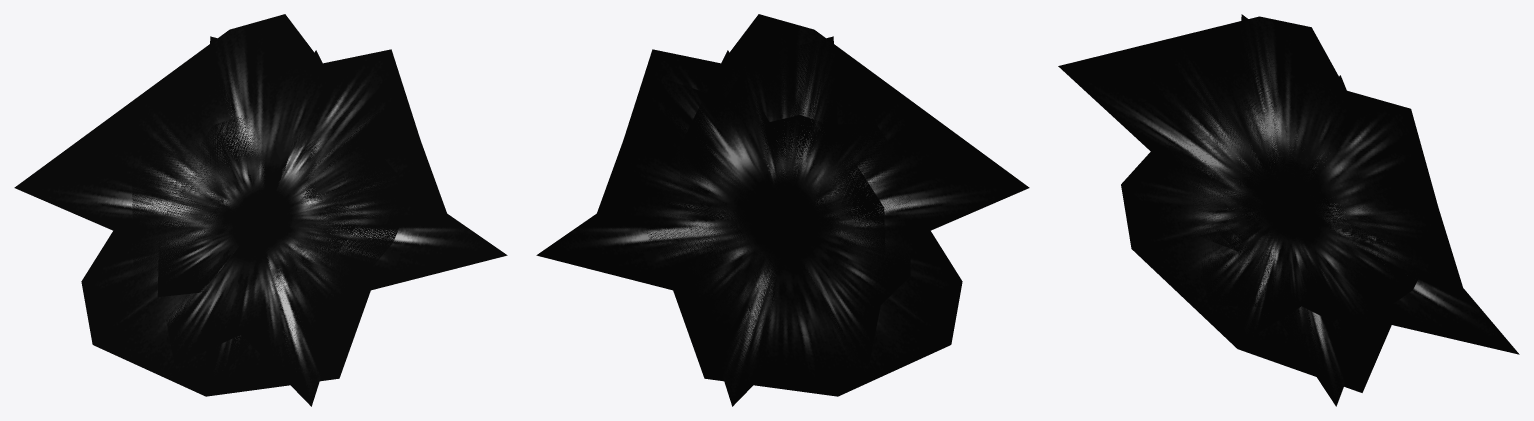
The model's file is Hit_Physical_Strike01.fbx.
3 views of the same model, side by side, from view 1: azimuth 30°, elevation 25°; view 2: azimuth 150°, elevation 25°; view 3: azimuth 330°, elevation 25° (orthographic). The views are drawn at different scales.
Visible parts, largest first — view 1: Hit_Physical_Strike01; view 2: Hit_Physical_Strike01; view 3: Hit_Physical_Strike01.
Boxes of the visible parts, x1,y1,x2,y2 form: Hit_Physical_Strike01: (14, 14, 507, 406); Hit_Physical_Strike01: (536, 14, 1029, 406); Hit_Physical_Strike01: (1058, 14, 1519, 406).
Bounding box in the file's own units: 0.4049 × 0.313 × 1.64e-08.
Materials: 1 (1 with a texture image).
